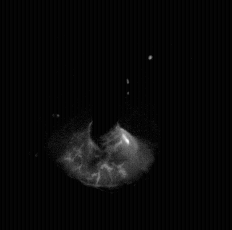arame: (93, 0, 119, 149)
poca: (49, 0, 154, 230)
